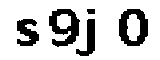0: (116, 6, 151, 48)
9: (45, 7, 80, 49)
j: (79, 6, 105, 60)
s: (11, 18, 41, 49)
